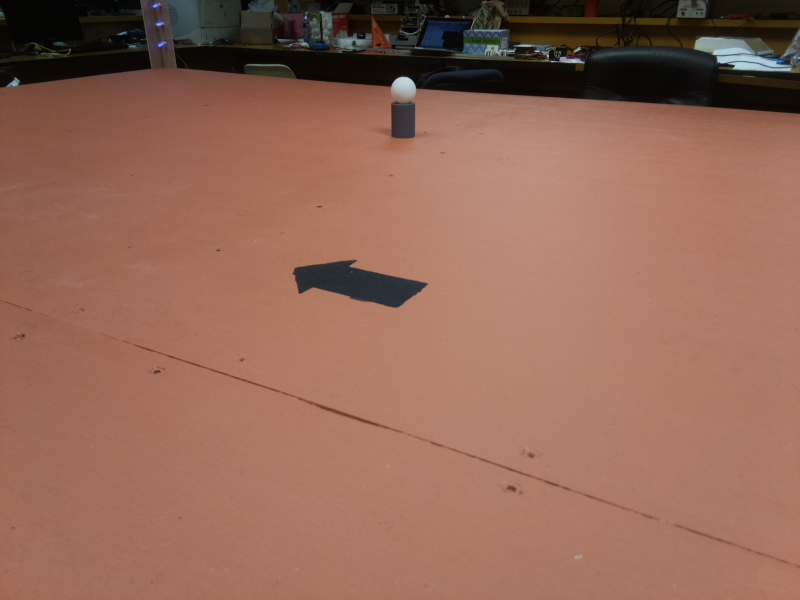obstacle: (389, 75, 416, 139)
start: (294, 256, 433, 310)
